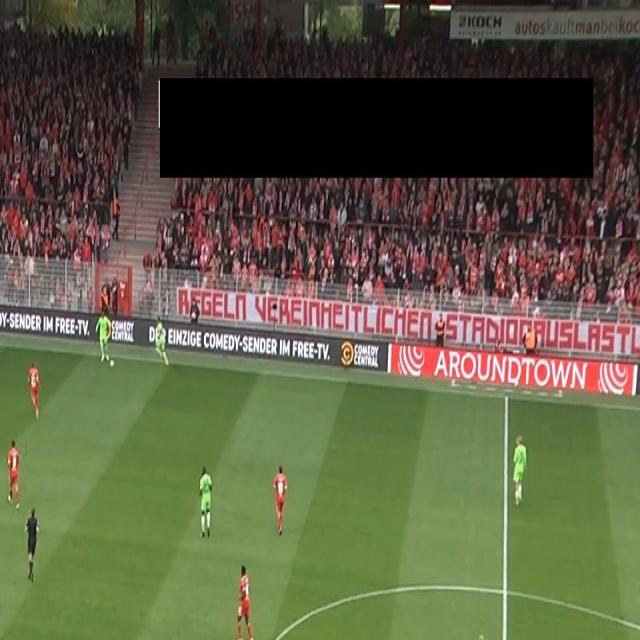ball: (109, 358, 115, 370)
